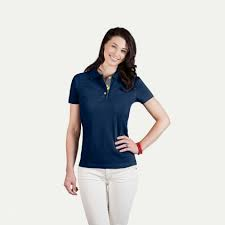S_polo shirt: (63, 63, 157, 178)
